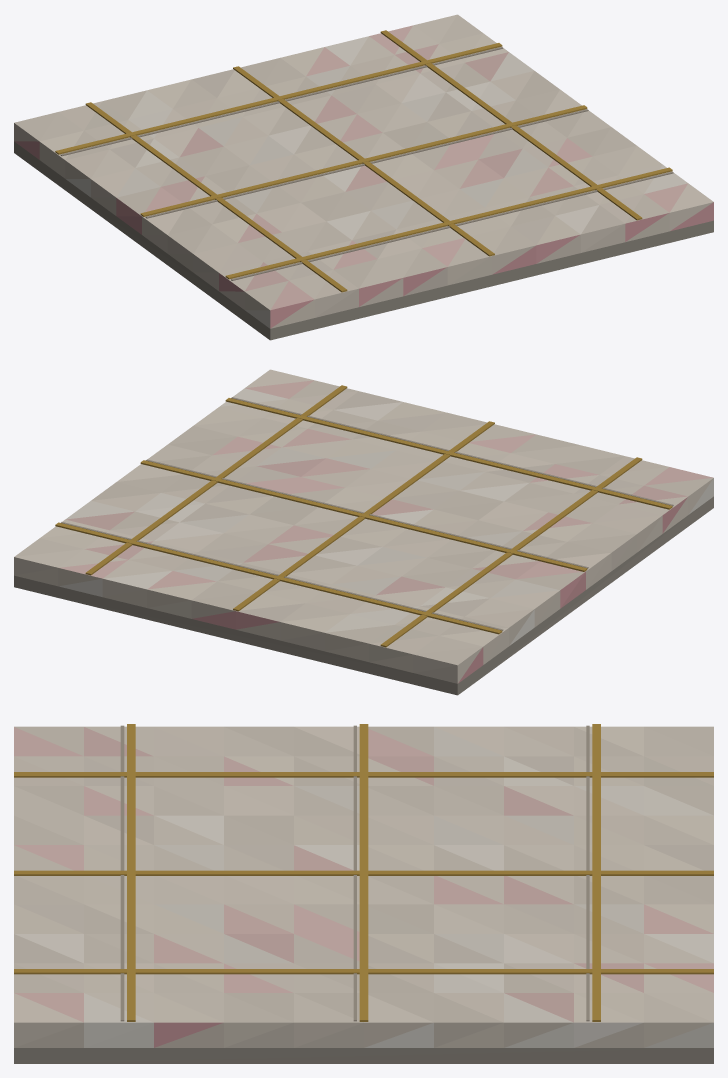
The model's file is terrazzo-sidewalk-plaza-tile.glb.
3 views of the same model, one above another, from view 1: azimuth 30°, elevation 25°; view 2: azimuth 150°, elevation 25°; view 3: azimuth 270°, elevation 25° (orthographic). The views are drawn at different scales.
Visible parts, largest first — view 1: terrazzo_sidewalk_plaza_tile; view 2: terrazzo_sidewalk_plaza_tile; view 3: terrazzo_sidewalk_plaza_tile.
Boxes of the visible parts, box(x1,y1,x2,y2) form: terrazzo_sidewalk_plaza_tile: box(14, 14, 713, 340); terrazzo_sidewalk_plaza_tile: box(14, 369, 713, 695); terrazzo_sidewalk_plaza_tile: box(14, 724, 713, 1063).
Bounding box in the file's own units: 4 × 0.2771 × 4.
